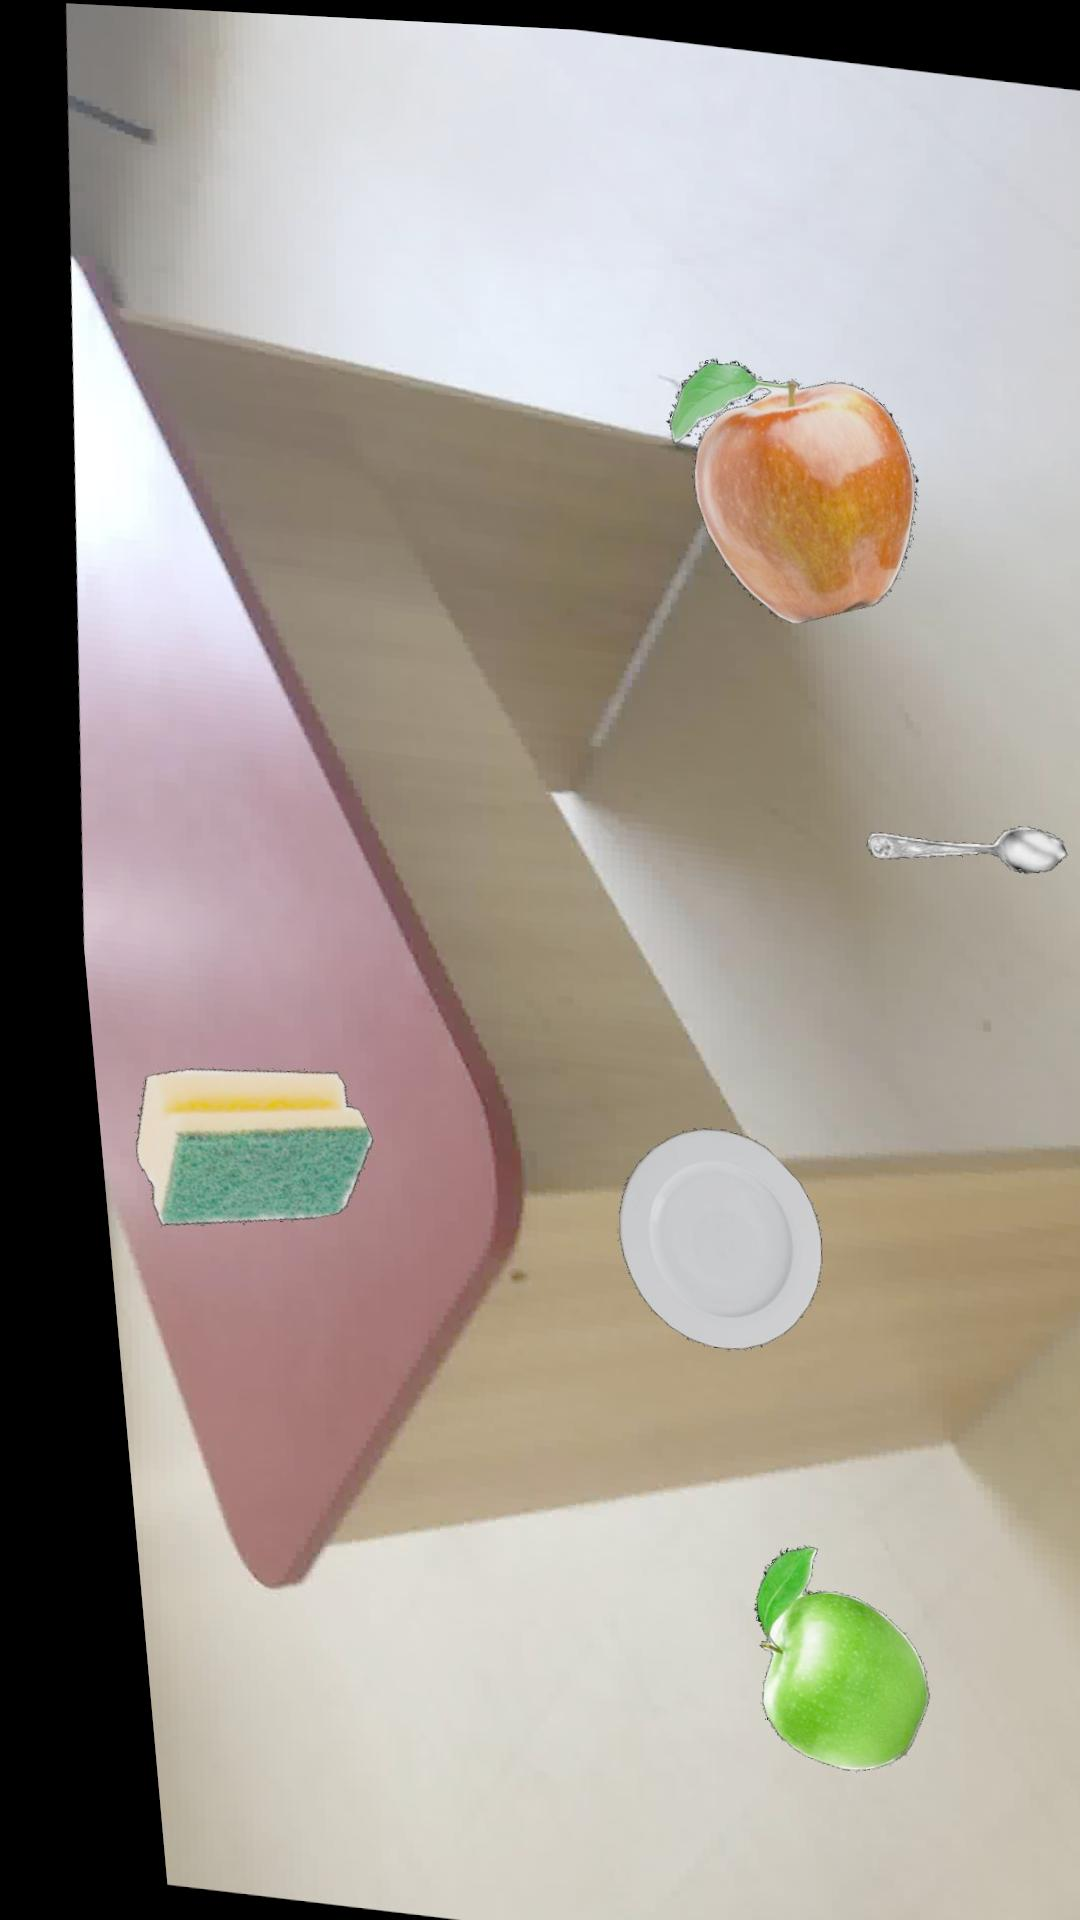apple: (659, 349, 910, 615)
green apple: (725, 1538, 899, 1762)
plate: (597, 1120, 800, 1341)
sponge: (116, 1065, 353, 1224)
spoon: (853, 815, 1054, 862)
